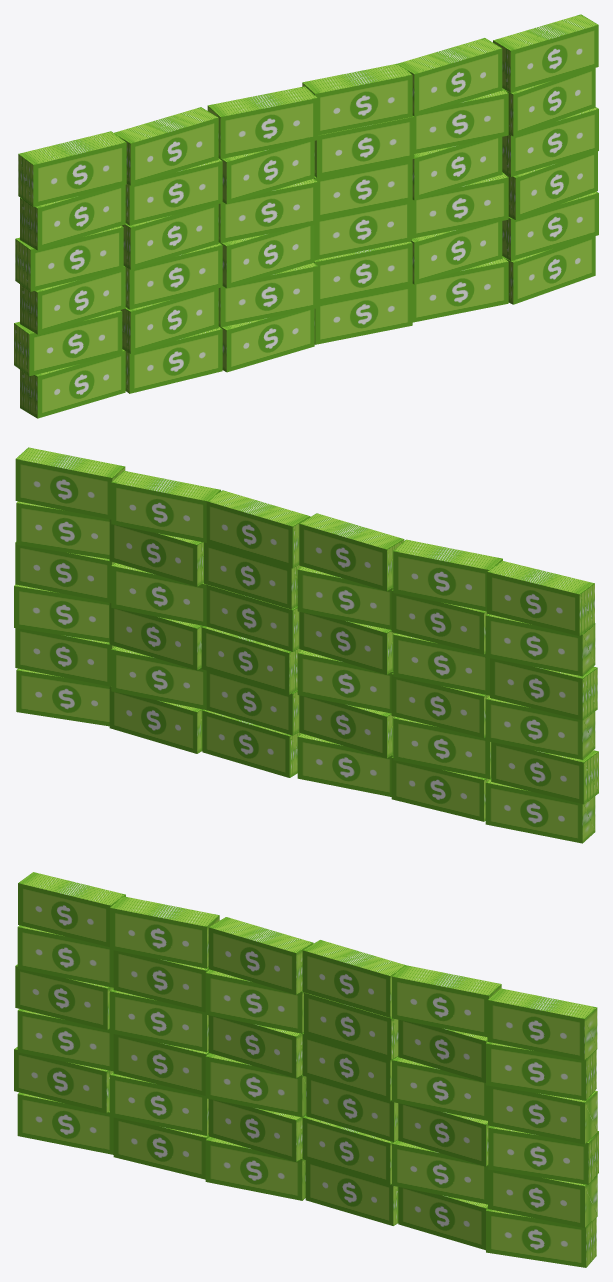
File: money_wall.fbx
3 views of the same model, one above another, from view 1: azimuth 30°, elevation 25°; view 2: azimuth 150°, elevation 25°; view 3: azimuth 330°, elevation 25° (orthographic).
Visible parts, largest first — view 1: Box1953; view 2: Box1953; view 3: Box1953.
Boxes of the visible parts, bbox=[...] form: Box1953: bbox=[14, 14, 598, 418]; Box1953: bbox=[14, 447, 598, 843]; Box1953: bbox=[14, 872, 598, 1267].
Bounding box in the file's own units: 192 × 80.64 × 14.13.
